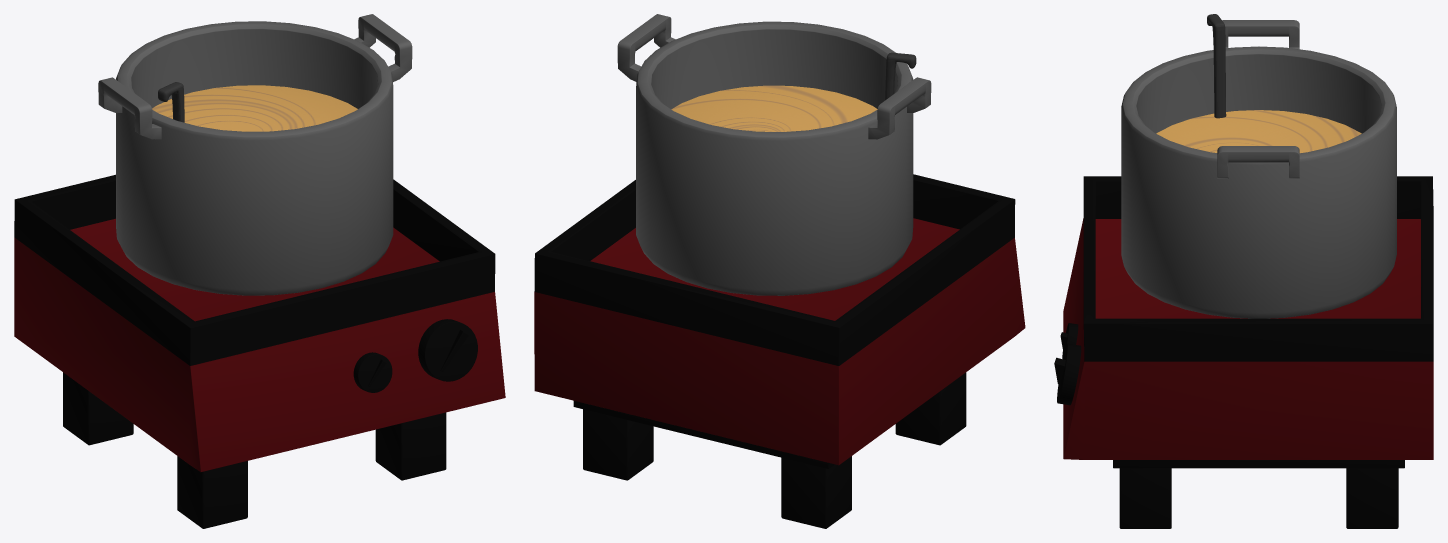
File: pot_anim.fbx
3 renders of one model, left to right at view 1: azimuth 30°, elevation 25°; view 2: azimuth 150°, elevation 25°; view 3: azimuth 270°, elevation 25°, orthographic.
Visible parts, largest first — view 1: kompor.004, panci.001, kompor_kaki.002, kuah.001, Cube.011; view 2: kompor.004, panci.001, kompor_kaki.002, kuah.001, Cube.011; view 3: kompor.004, panci.001, kompor_kaki.002, kuah.001, Cube.011.
Boxes of the visible parts, left/top/right/bottom form: kompor.004: left=14, top=174, right=505, bottom=471; panci.001: left=98, top=14, right=412, bottom=295; kompor_kaki.002: left=63, top=372, right=446, bottom=528; kuah.001: left=152, top=85, right=357, bottom=131; Cube.011: left=158, top=82, right=184, bottom=122; kompor.004: left=534, top=174, right=1025, bottom=468; panci.001: left=617, top=14, right=931, bottom=295; kompor_kaki.002: left=583, top=372, right=966, bottom=528; kuah.001: left=671, top=85, right=877, bottom=131; Cube.011: left=885, top=52, right=916, bottom=100; kompor.004: left=1054, top=176, right=1433, bottom=468; panci.001: left=1121, top=20, right=1396, bottom=318; kompor_kaki.002: left=1119, top=468, right=1398, bottom=528; kuah.001: left=1156, top=110, right=1361, bottom=153; Cube.011: left=1207, top=14, right=1226, bottom=118.
Size of the model in its own units: 100 by 127 by 109.
5 materials, 1 textured.
